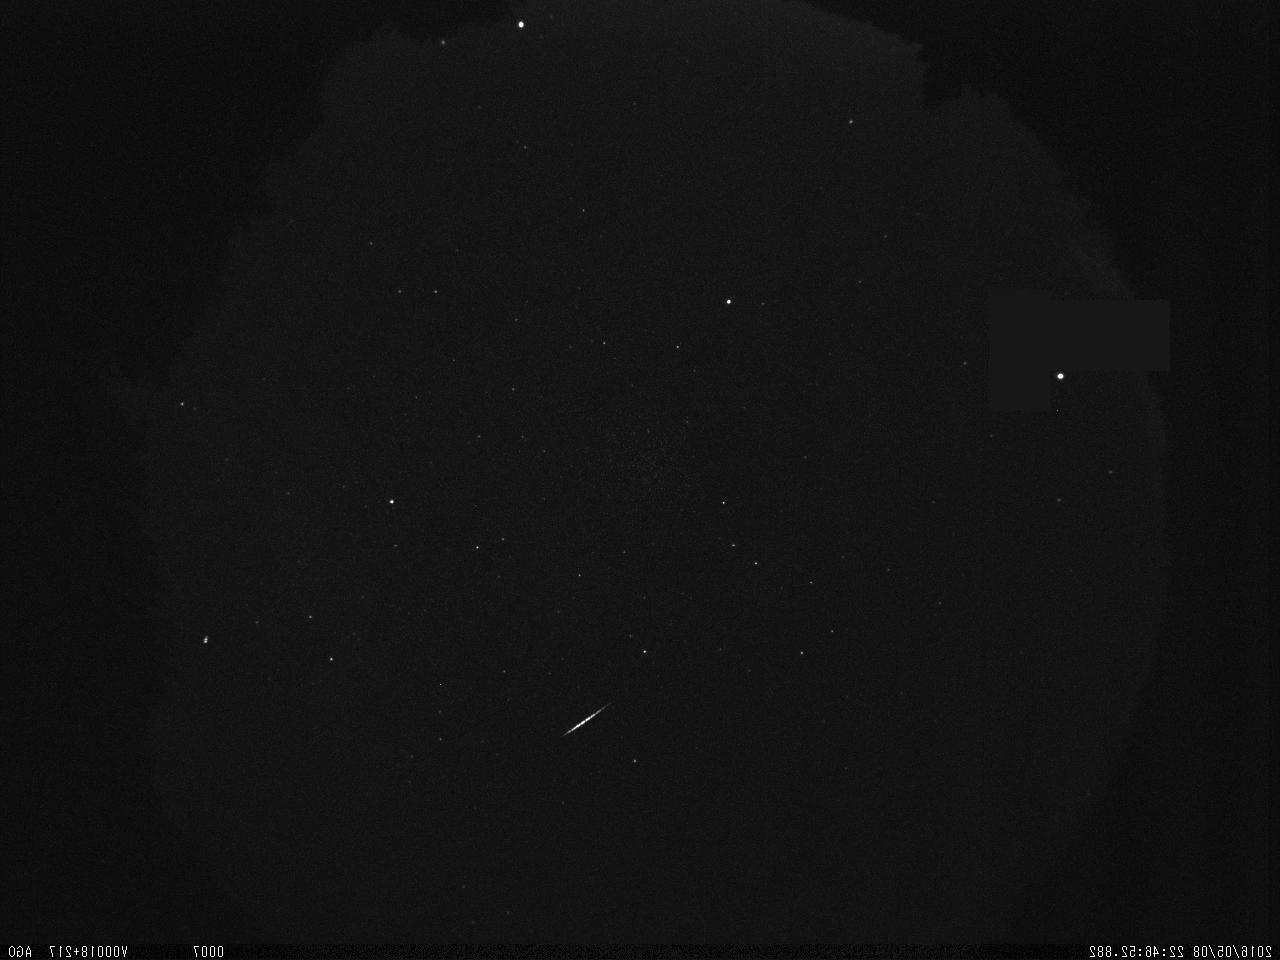meteor: (552, 690, 616, 751)
